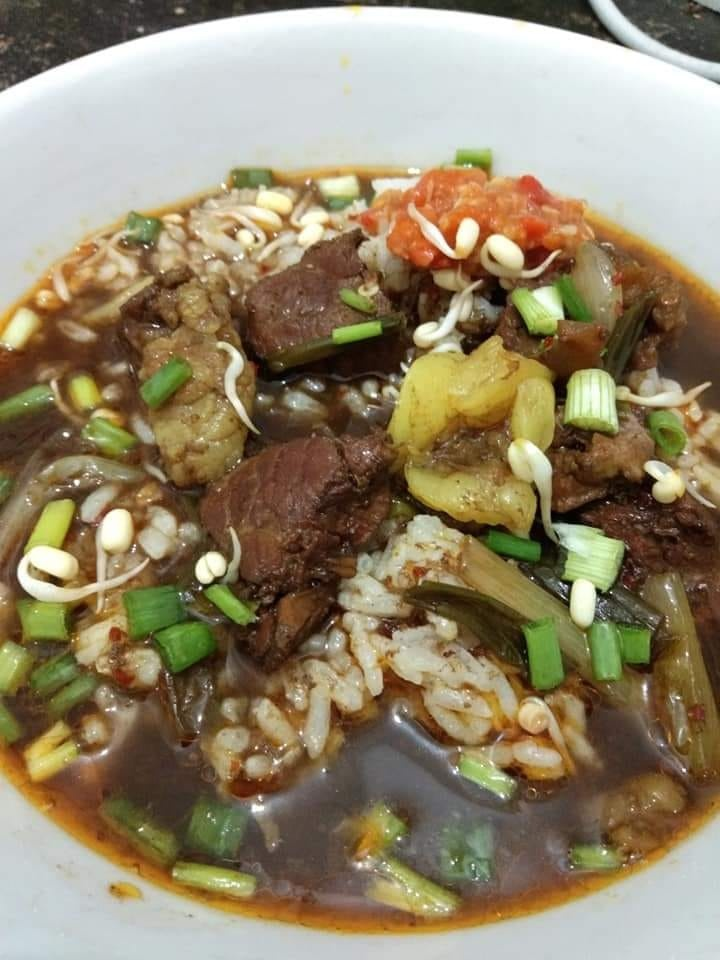rawon: (47, 191, 668, 868)
